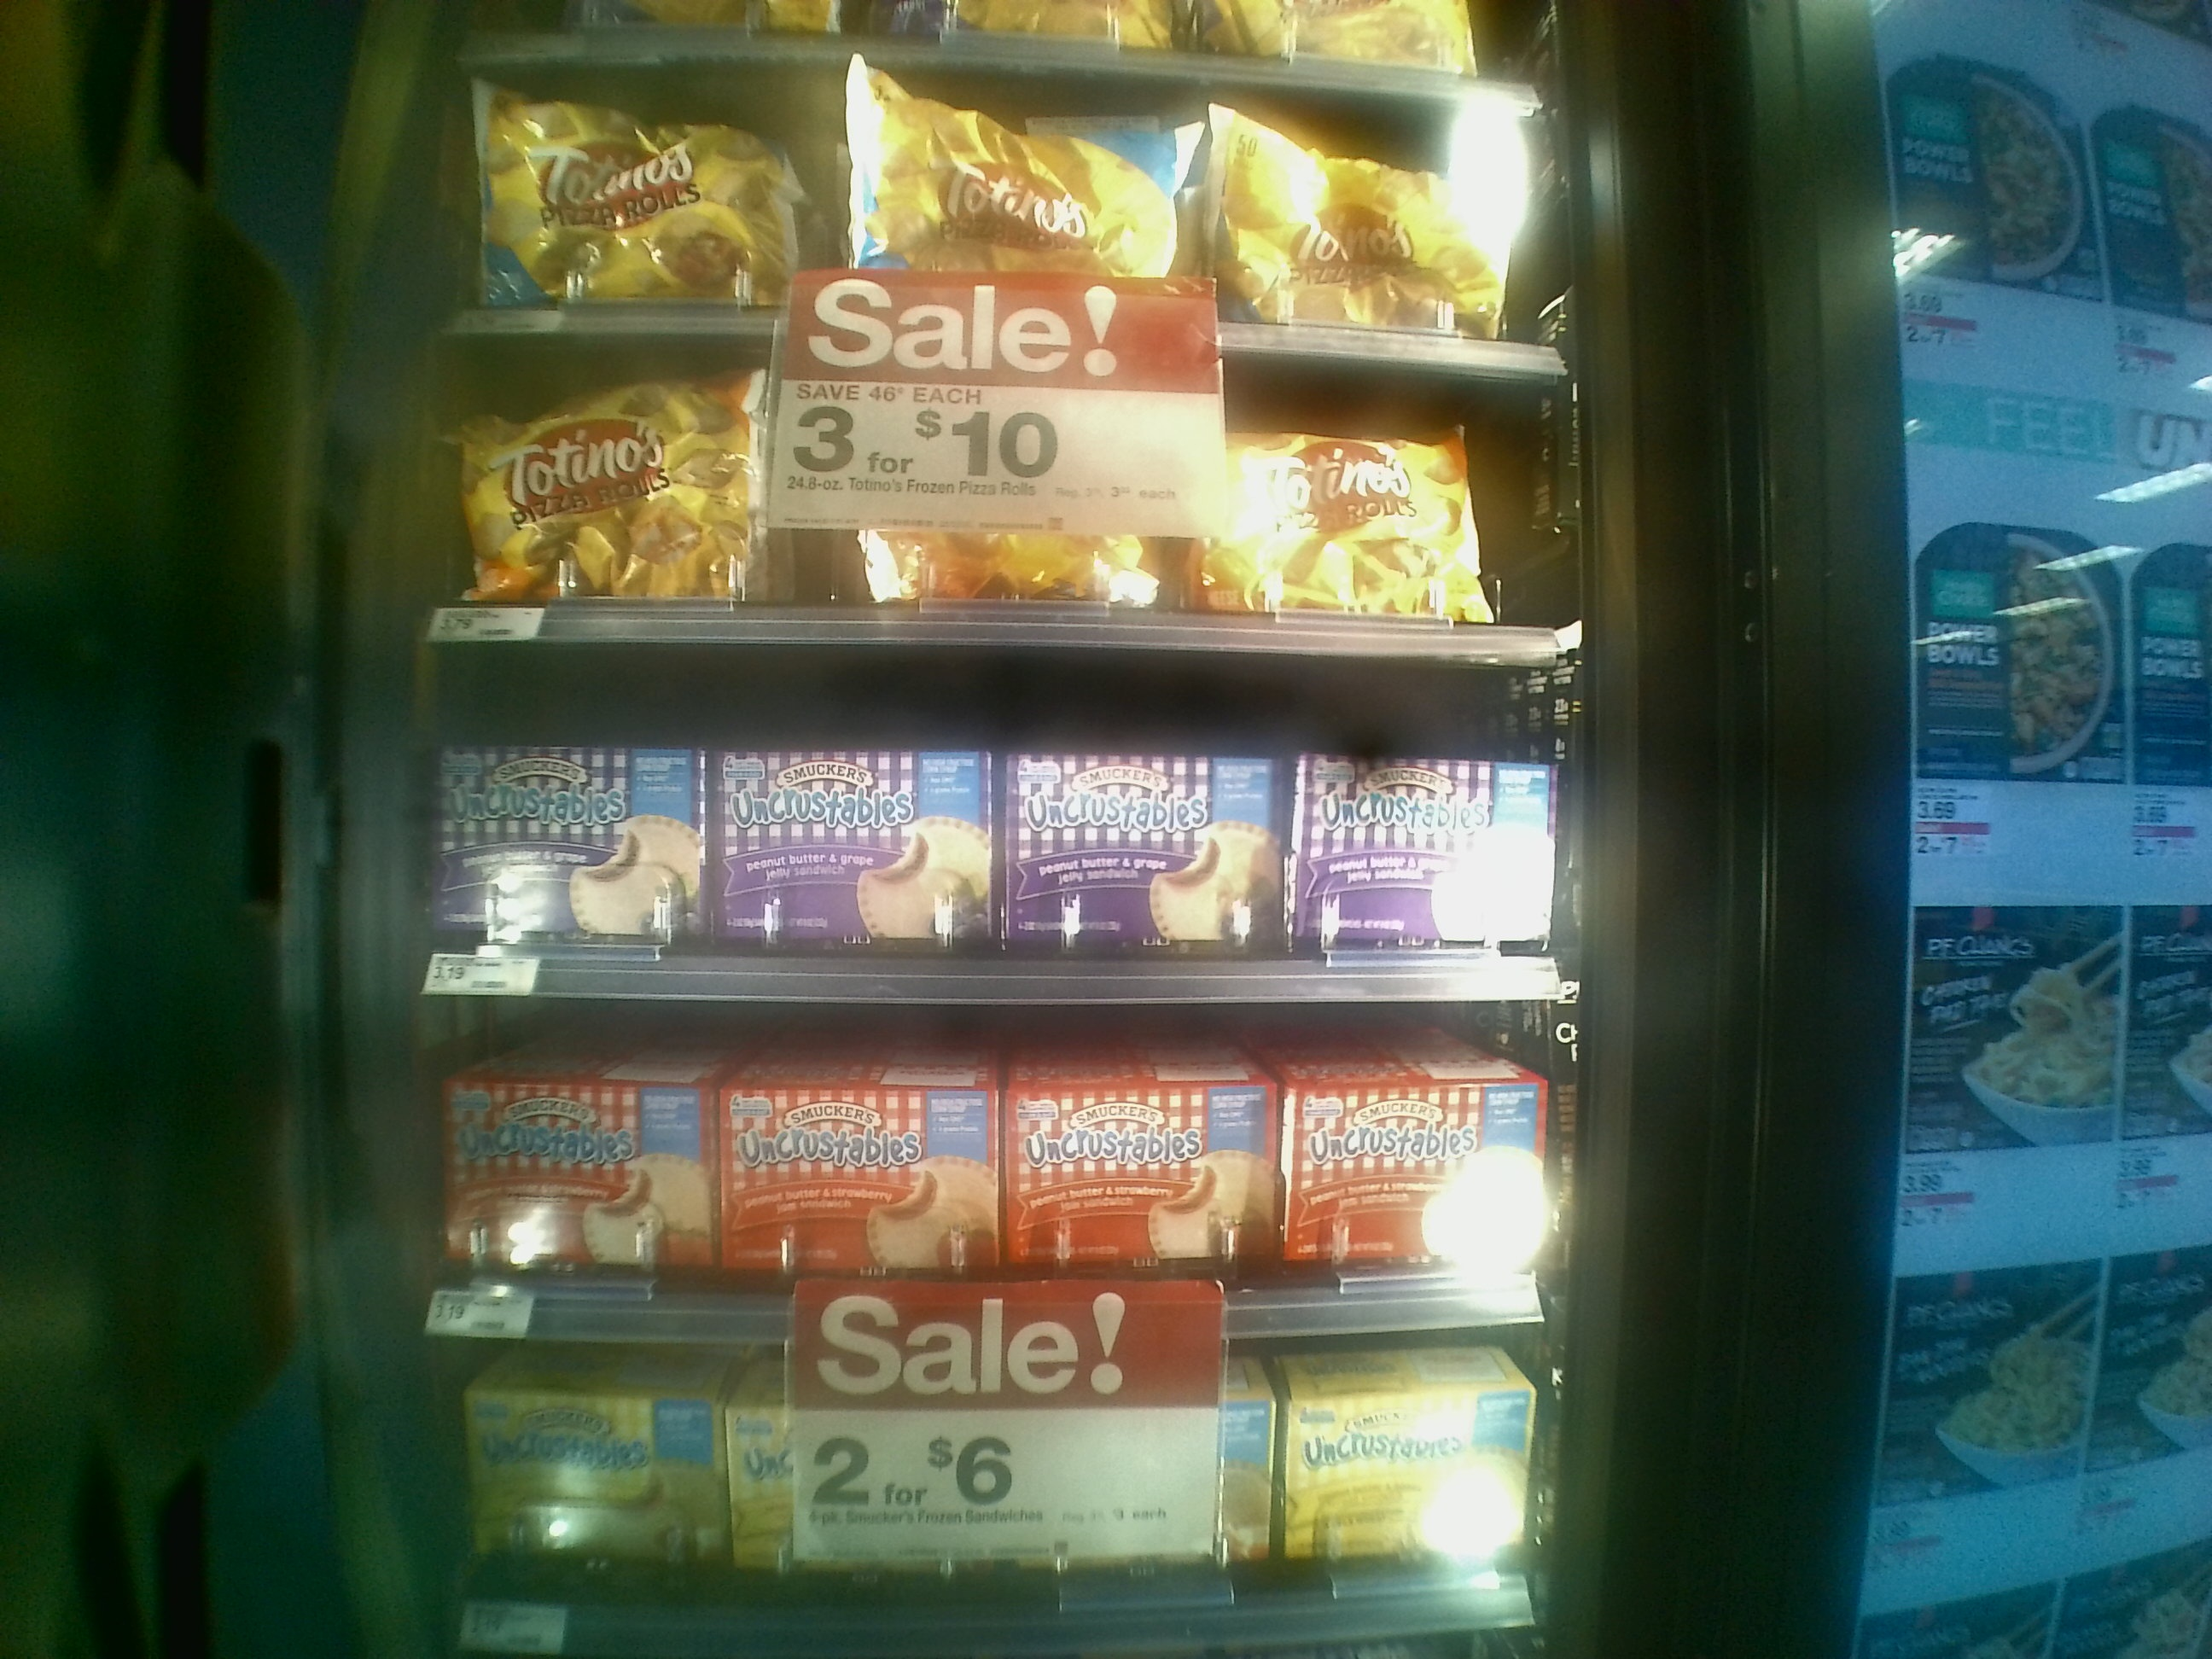shelf: (354, 629, 1576, 997), (329, 986, 1587, 1333), (392, 331, 1569, 666)
